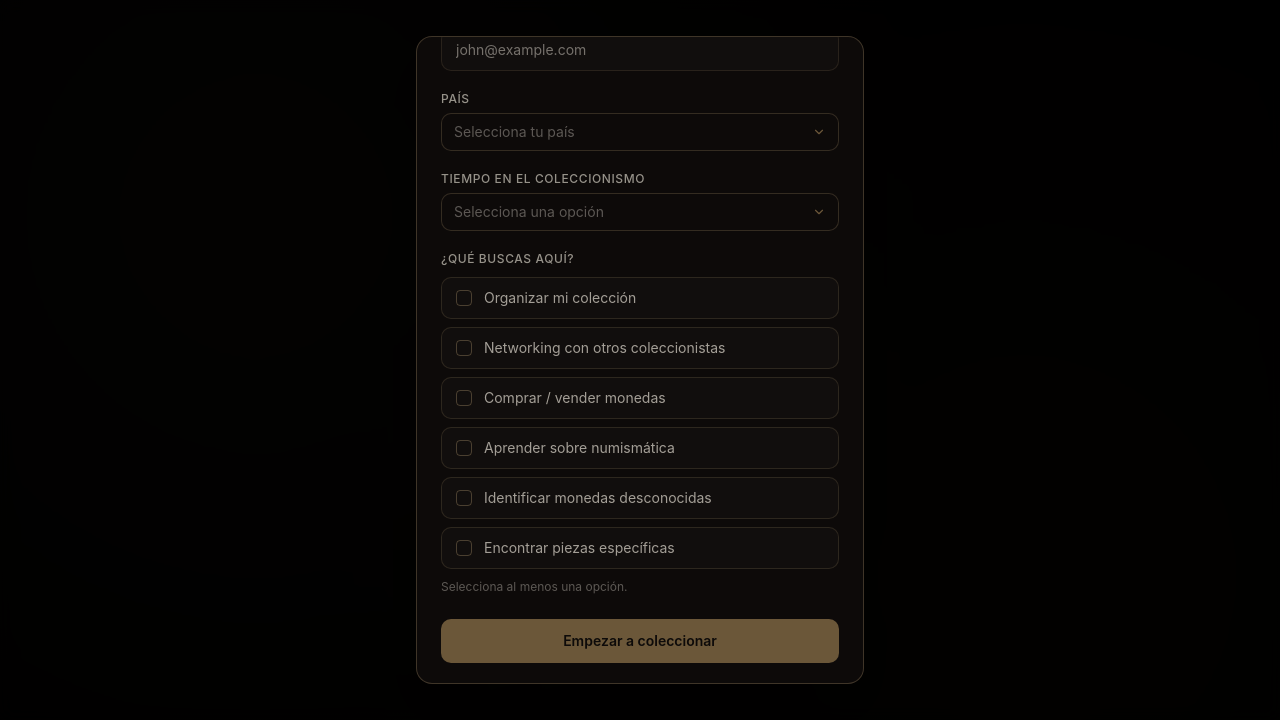
Test: ProfileSetupModal › enables submit button after selecting a goal
This screenshot has width=1280, height=720.
(page scrolled)
Click the button "Aprender sobre numismática" at (640, 448), box [441,427,839,469]
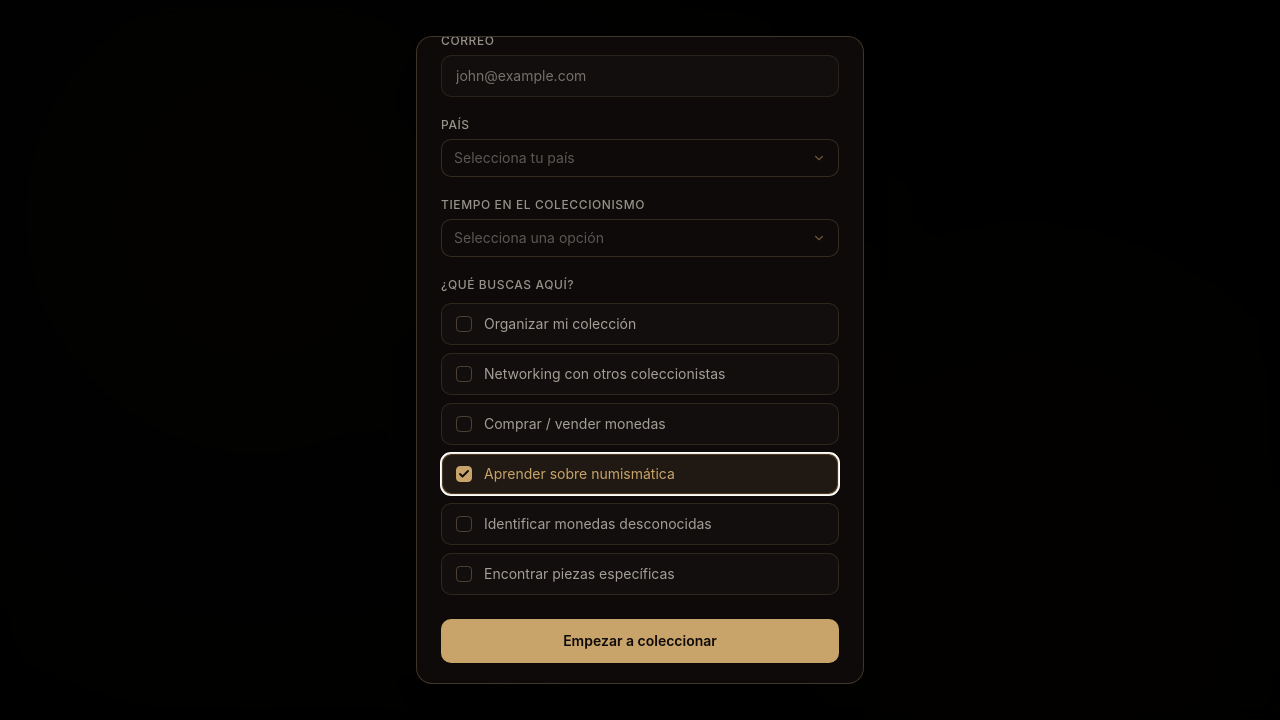
Expected: the button "Empezar a coleccionar" is enabled, [441,619,839,663]
